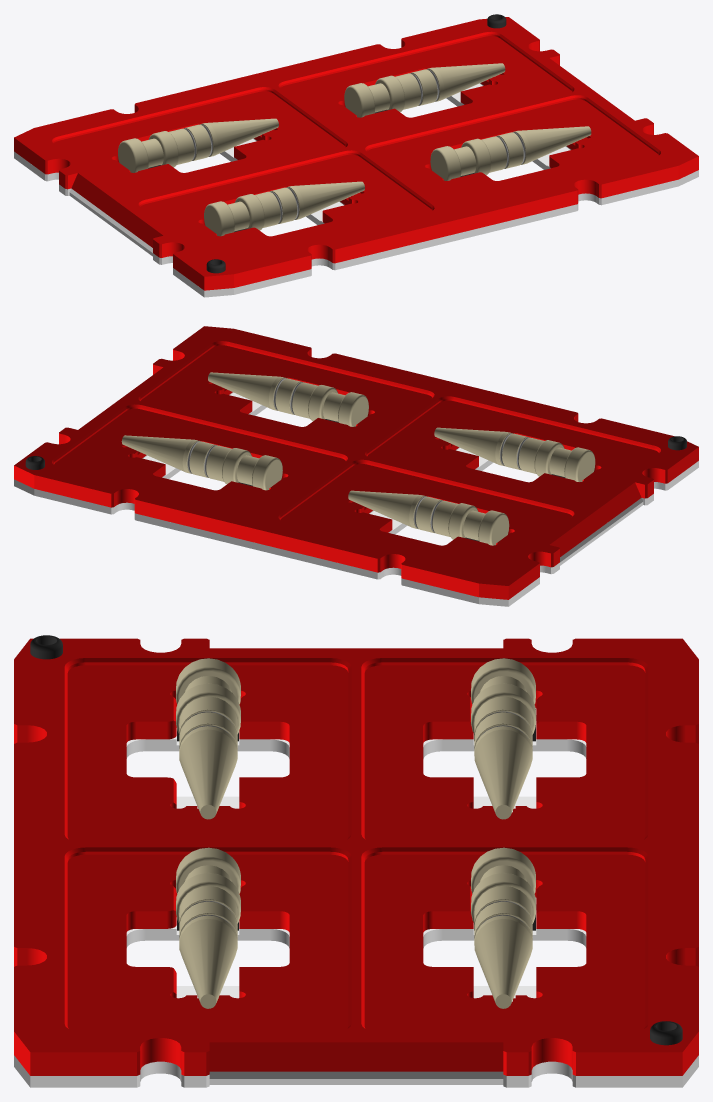
File: WS Oring Pallet.fbx
3 renders of one model, top to bottom at view 1: azimuth 30°, elevation 25°; view 2: azimuth 150°, elevation 25°; view 3: azimuth 270°, elevation 25°, orthographic. The views are drawn at different scales.
Visible parts, largest first — view 1: WS_Final Pallet.001, WS4 W/Oring, WS3 W/Oring, WS2 W/Oring, WS1 W/Oring; view 2: WS_Final Pallet.001, WS1 W/Oring, WS2 W/Oring, WS3 W/Oring, WS4 W/Oring; view 3: WS_Final Pallet.001, WS4 W/Oring, WS2 W/Oring, WS3 W/Oring, WS1 W/Oring.
Part boxes in pixels (x1,y1,x2,y2): WS_Final Pallet.001: (14,14,698,297); WS4 W/Oring: (430,126,591,180); WS3 W/Oring: (204,181,364,236); WS2 W/Oring: (344,63,505,117); WS1 W/Oring: (118,118,278,172); WS_Final Pallet.001: (14,326,698,606); WS1 W/Oring: (348,490,509,545); WS2 W/Oring: (121,435,282,490); WS3 W/Oring: (434,427,595,481); WS4 W/Oring: (208,372,368,426); WS_Final Pallet.001: (14,635,698,1087); WS4 W/Oring: (176,847,240,1008); WS2 W/Oring: (471,847,535,1008); WS3 W/Oring: (176,658,240,819); WS1 W/Oring: (471,658,535,819).
Size of the model in its own units: 0.3337 by 0.0253 by 0.2335.
